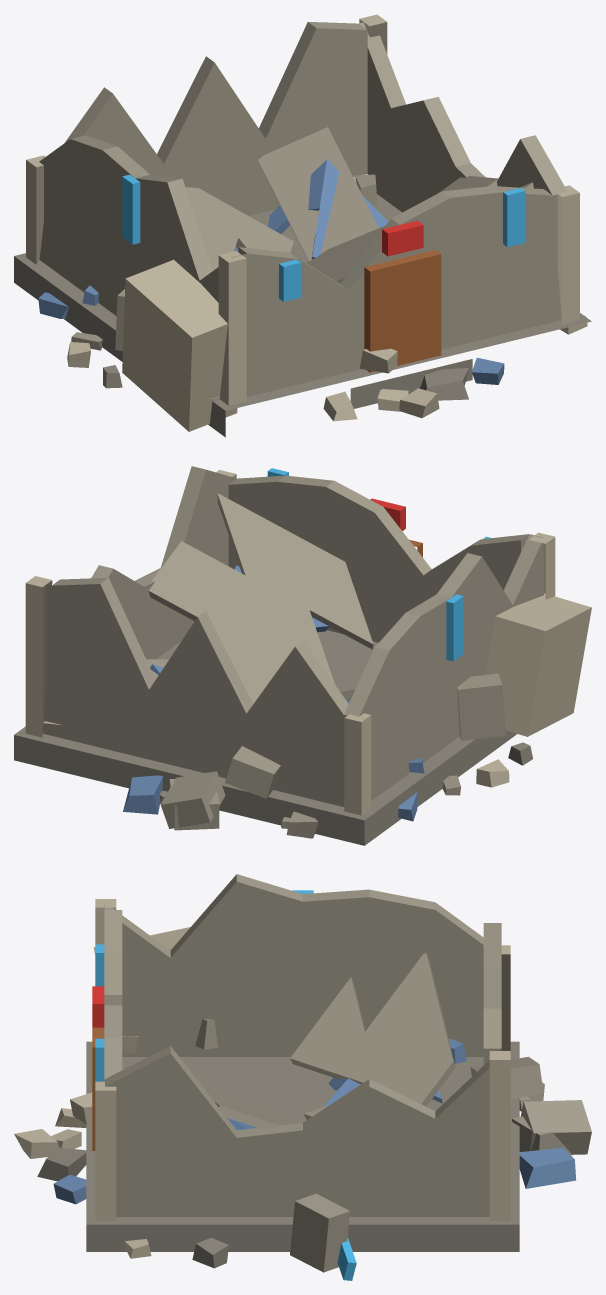
Rendered from house_t3_v2_dmg2.glb.
3 renders of one model, top to bottom at view 1: azimuth 30°, elevation 25°; view 2: azimuth 150°, elevation 25°; view 3: azimuth 270°, elevation 25°, orthographic. The views are drawn at different scales.
Parts seen in each view (by area): view 1: house_t3_v2_dmg2; view 2: house_t3_v2_dmg2; view 3: house_t3_v2_dmg2.
Boxes of the visible parts, x1,y1,x2,y2 form: house_t3_v2_dmg2: [14, 14, 591, 437]; house_t3_v2_dmg2: [14, 466, 591, 845]; house_t3_v2_dmg2: [14, 874, 591, 1280].
Bounding box in the file's own units: 0.9352 × 0.3713 × 0.96.
Materials: 1 (1 with a texture image).
